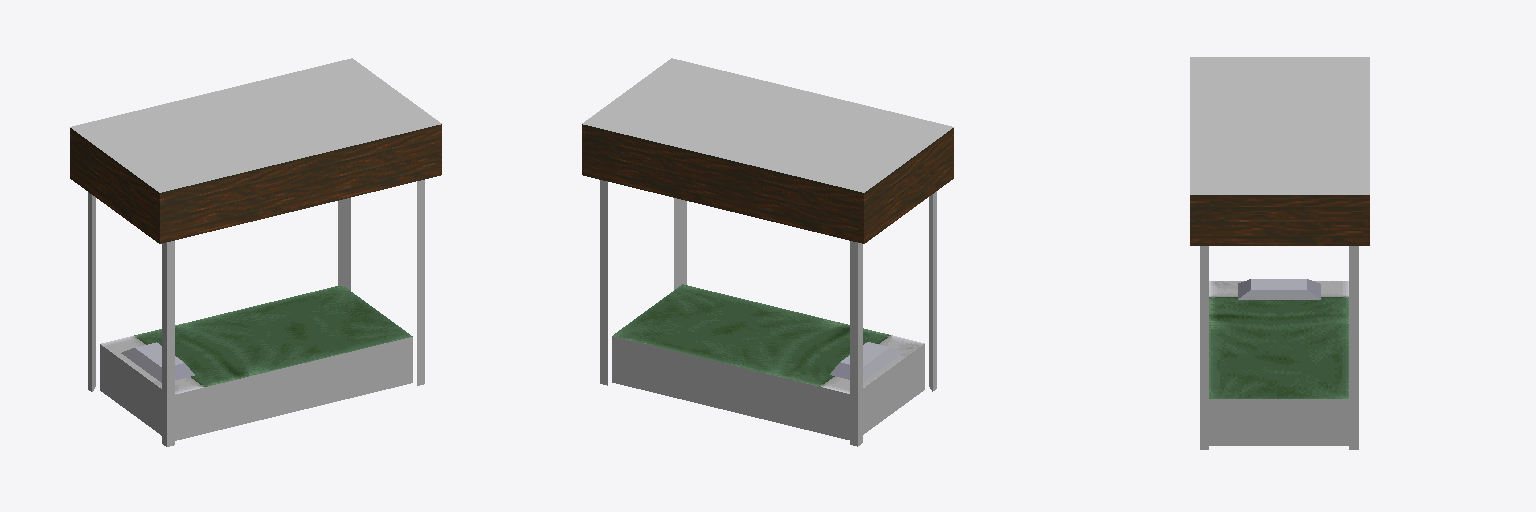
3 renders of one model, left to right at view 1: azimuth 30°, elevation 25°; view 2: azimuth 150°, elevation 25°; view 3: azimuth 270°, elevation 25°, orthographic.
Parts seen in each view (by area): view 1: model41002-node_model41002; view 2: model41002-node_model41002; view 3: model41002-node_model41002.
Part boxes in pixels (bbox=[...]): model41002-node_model41002: bbox=[70, 58, 441, 446]; model41002-node_model41002: bbox=[582, 58, 953, 446]; model41002-node_model41002: bbox=[1190, 57, 1369, 449].
Size of the model in its own units: 2.41 by 2.13 by 1.33.
10 materials, 5 textured.